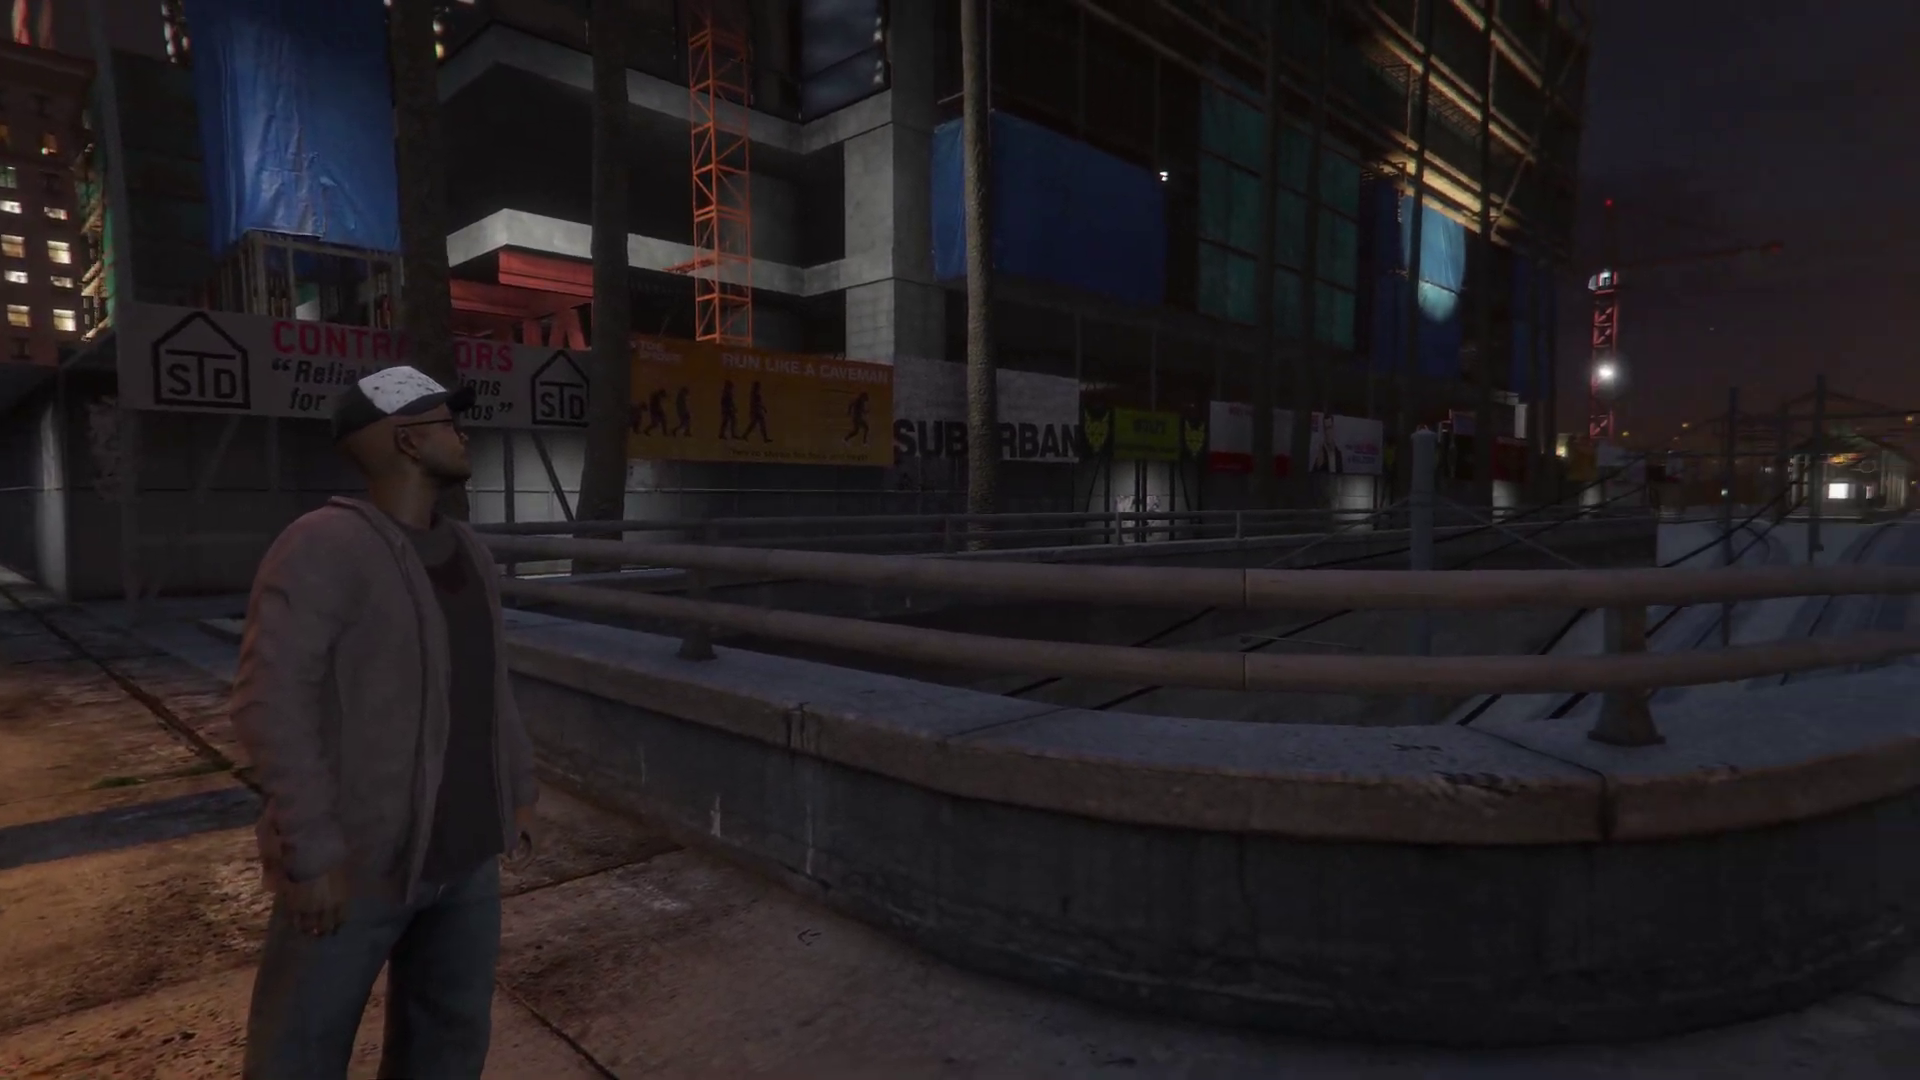person: (231, 364, 545, 1080)
